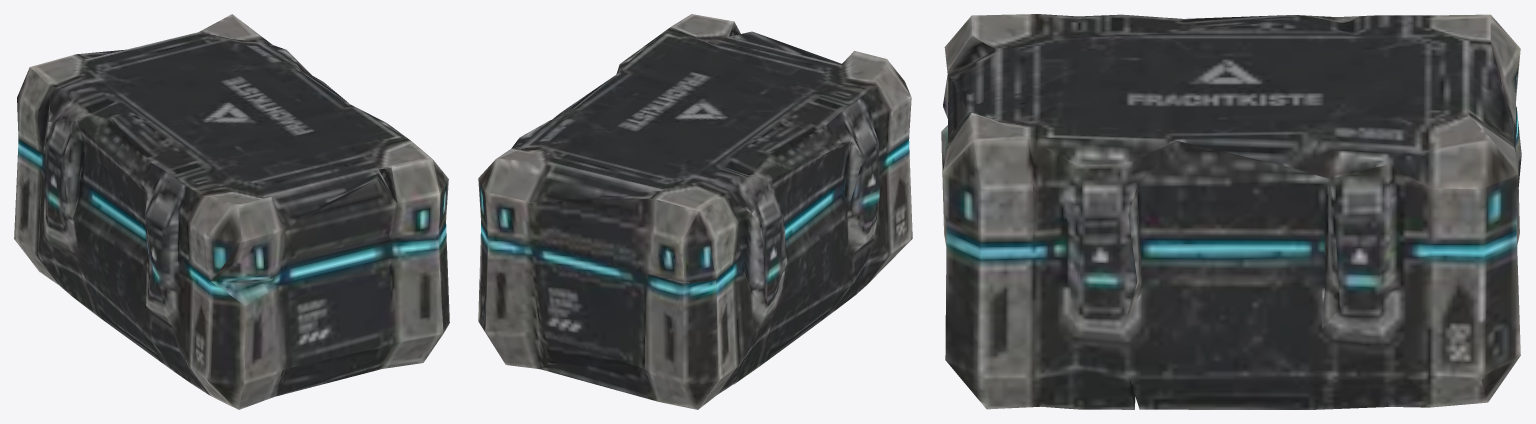
File: crate-lod1.glb
The picture shows the model from 3 angles, left to right: view 1: azimuth 30°, elevation 25°; view 2: azimuth 150°, elevation 25°; view 3: azimuth 270°, elevation 25°; orthographic projection. The views are drawn at different scales.
Visible parts, largest first — view 1: crate-lod1; view 2: crate-lod1; view 3: crate-lod1.
Part boxes in pixels (x1,y1,x2,y2): crate-lod1: (14,14,449,409); crate-lod1: (478,14,912,409); crate-lod1: (941,14,1521,409).
Bounding box in the file's own units: 9.19 × 7.08 × 13.61.
1 material, 1 textured.
